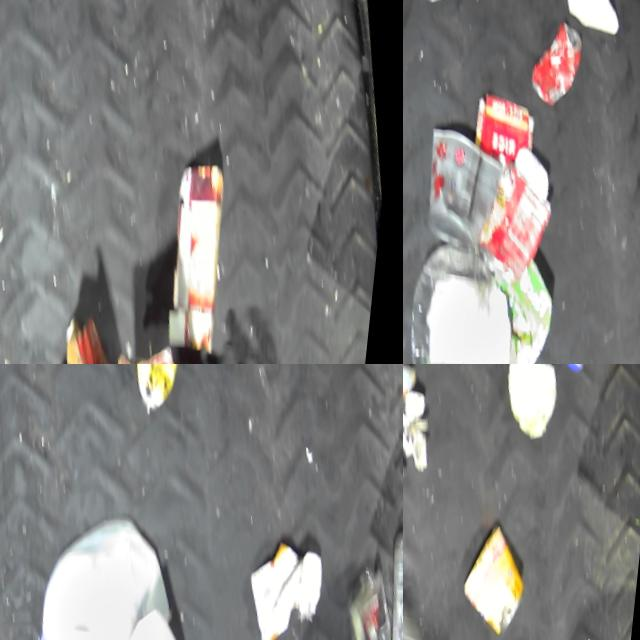can: (412, 118, 523, 249), (457, 520, 546, 640), (521, 20, 596, 111), (116, 364, 214, 416), (407, 0, 490, 12)
milk_jug: (24, 508, 197, 640), (108, 602, 229, 640)
plastic_bottle: (403, 236, 548, 364), (340, 564, 403, 640), (377, 528, 403, 640)
